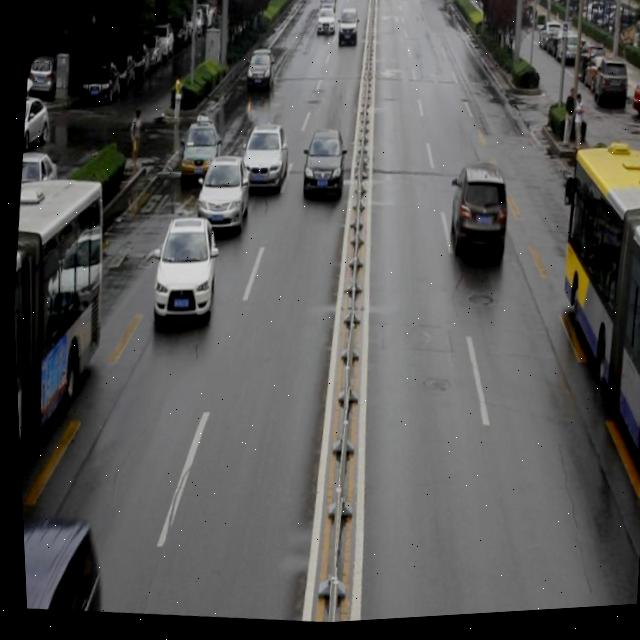car: (143, 215, 218, 331), (18, 510, 99, 615), (441, 165, 509, 267), (191, 155, 249, 237), (236, 121, 291, 202), (174, 113, 225, 189), (296, 131, 347, 204), (242, 49, 276, 95)
van: (527, 153, 640, 508), (6, 169, 119, 509)
